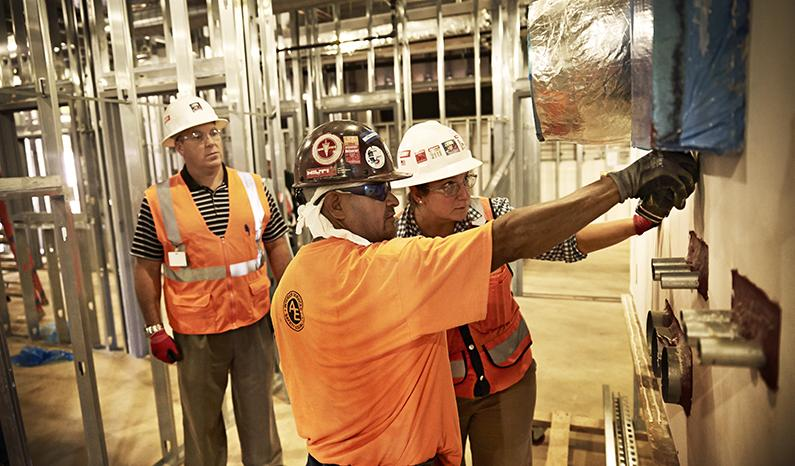helmet: (294, 125, 412, 188), (395, 121, 480, 191), (163, 100, 227, 143)
